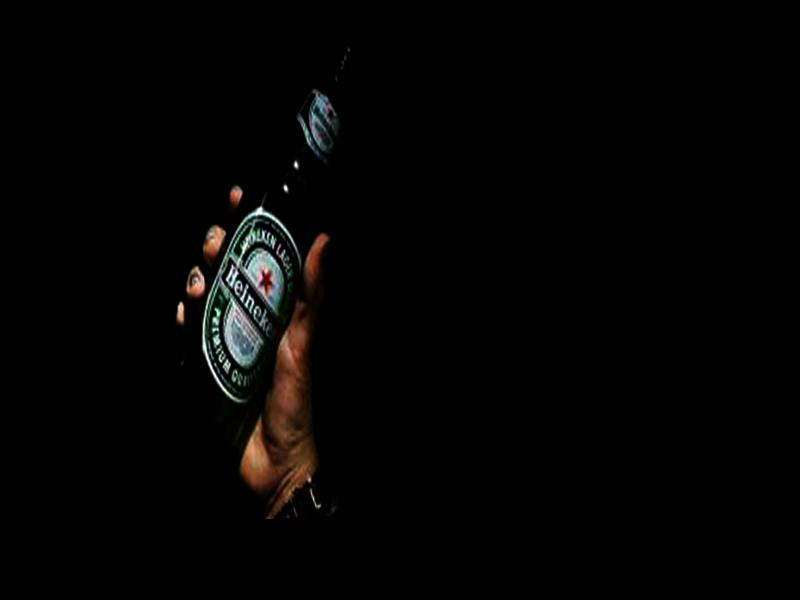Beer: (153, 28, 383, 472)
